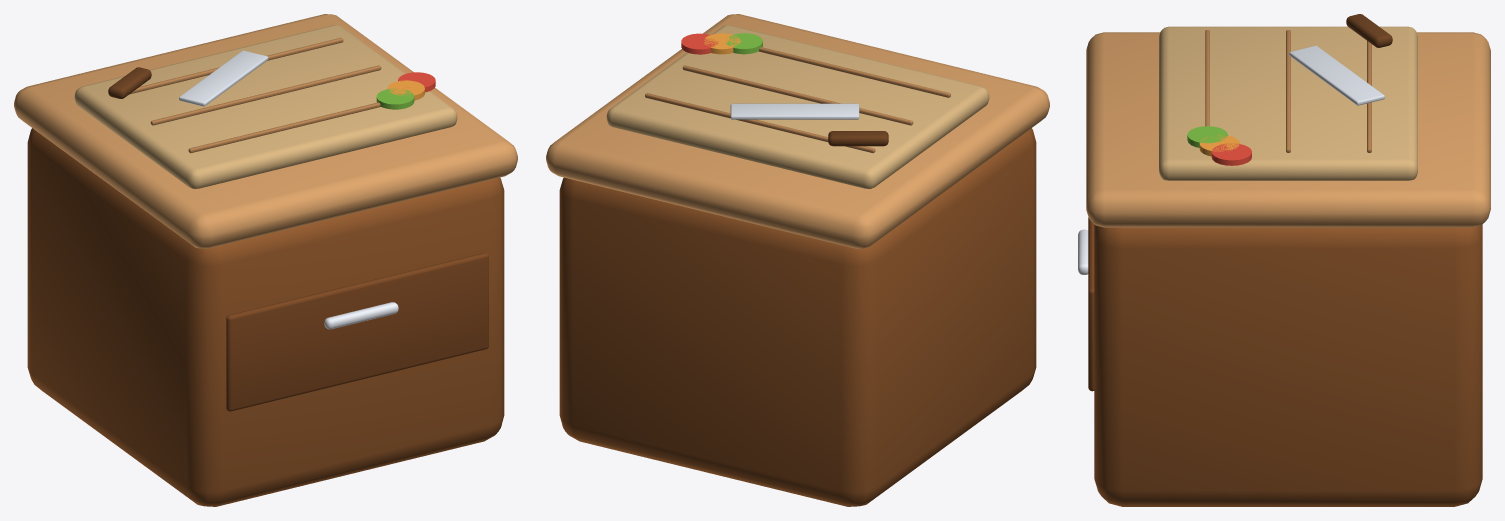
Rendered from chop_board.glb.
3 renders of one model, left to right at view 1: azimuth 30°, elevation 25°; view 2: azimuth 150°, elevation 25°; view 3: azimuth 270°, elevation 25°, orthographic. The views are drawn at different scales.
Parts seen in each view (by area): view 1: body, top, board, drawer, blade, groove.001, groove, handle, groove.002, handle.001, slice; view 2: body, top, board, blade, groove.001, groove.002, groove, handle.001, slice, slice.002, slice.001; view 3: body, top, board, blade, drawer, handle.001, slice.002, slice, groove.001, slice.001, handle, groove (+1 smaller).
Boxes of the visible parts, x1=… form: body: x1=27, y1=128, x2=504, y2=506; top: x1=14, y1=14, x2=517, y2=248; board: x1=74, y1=25, x2=457, y2=188; drawer: x1=226, y1=253, x2=488, y2=411; blade: x1=179, y1=50, x2=268, y2=106; groove.001: x1=150, y1=65, x2=381, y2=125; groove: x1=188, y1=102, x2=380, y2=153; handle: x1=324, y1=302, x2=398, y2=329; groove.002: x1=129, y1=37, x2=343, y2=94; handle.001: x1=108, y1=67, x2=151, y2=98; slice: x1=376, y1=88, x2=414, y2=109; body: x1=559, y1=128, x2=1036, y2=506; top: x1=546, y1=14, x2=1049, y2=248; board: x1=606, y1=25, x2=989, y2=188; blade: x1=730, y1=103, x2=859, y2=119; groove.001: x1=682, y1=65, x2=913, y2=125; groove.002: x1=645, y1=93, x2=875, y2=153; groove: x1=758, y1=47, x2=950, y2=97; handle.001: x1=828, y1=131, x2=888, y2=146; slice: x1=725, y1=33, x2=762, y2=54; slice.002: x1=681, y1=33, x2=717, y2=54; slice.001: x1=704, y1=33, x2=740, y2=54; body: x1=1094, y1=224, x2=1482, y2=506; top: x1=1086, y1=32, x2=1490, y2=227; board: x1=1159, y1=26, x2=1417, y2=180; blade: x1=1289, y1=45, x2=1384, y2=105; drawer: x1=1088, y1=217, x2=1094, y2=391; handle.001: x1=1346, y1=14, x2=1392, y2=47; slice.002: x1=1211, y1=143, x2=1251, y2=165; slice: x1=1187, y1=126, x2=1227, y2=147; groove.001: x1=1286, y1=30, x2=1290, y2=152; slice.001: x1=1199, y1=134, x2=1239, y2=156; handle: x1=1078, y1=229, x2=1088, y2=274; groove: x1=1205, y1=30, x2=1209, y2=126.
Size of the model in its own units: 1 by 0.975 by 1.02.
